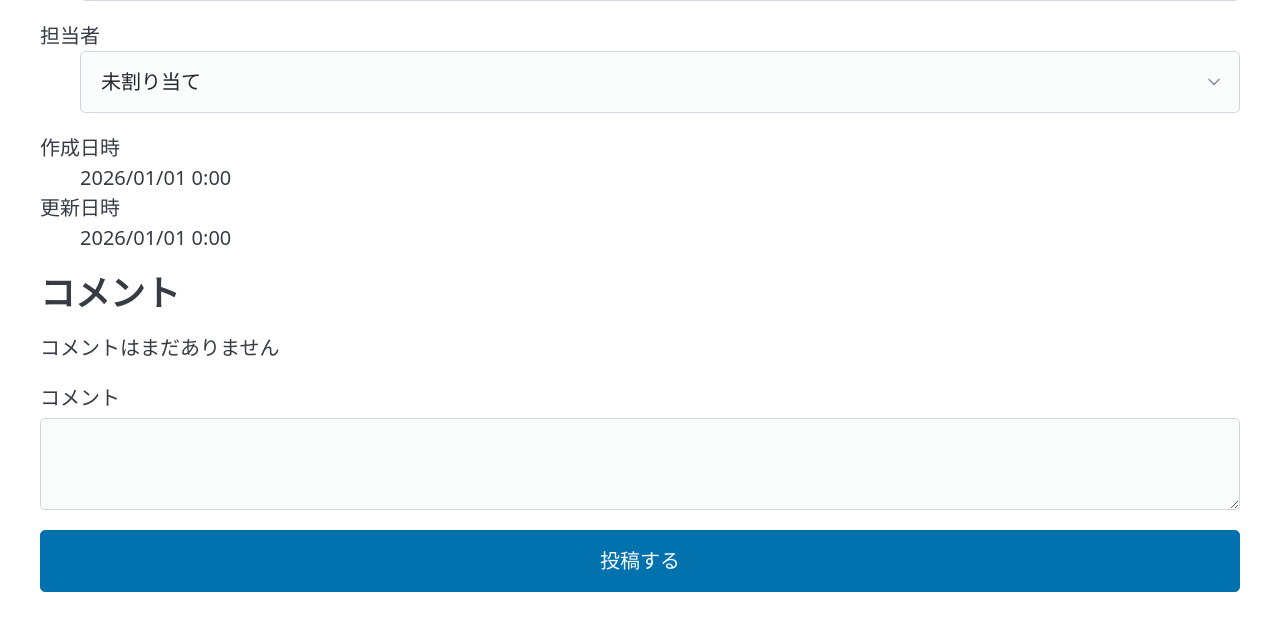
Test case: コメント投稿 › 権限が無ければ(403)、プロジェクトを取り直し、投稿フォームを表示しない
(page scrolled)
Expected: the form named "コメントを投稿" is shown, [40,383,1240,612]
Type "コメント" into the text box labelled "コメント" at (640, 464), box [40,418,1240,510]
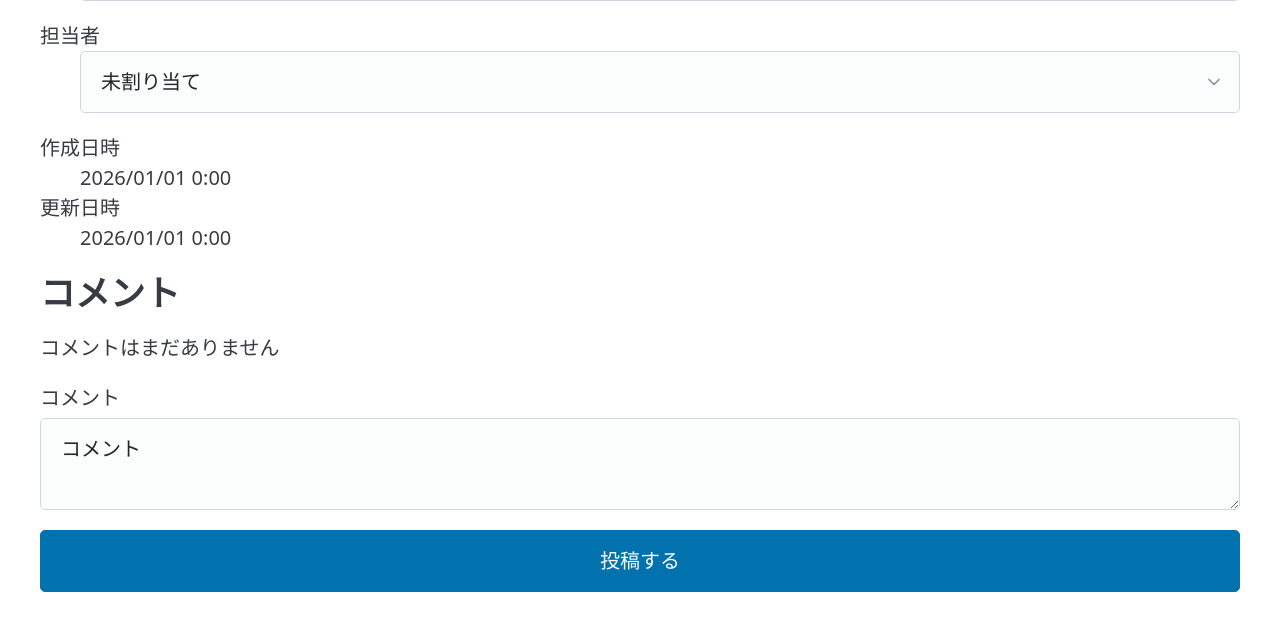
Click the button "投稿する" at (640, 561), box [40,530,1240,592]
(page scrolled)
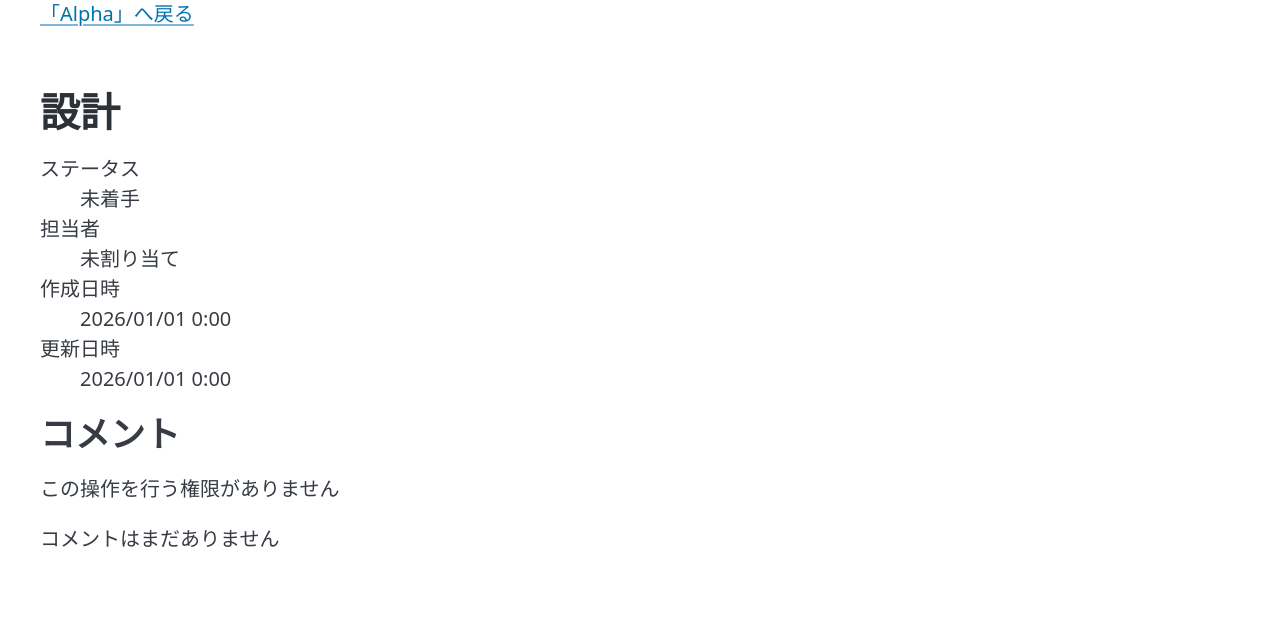
Now the form "コメントを投稿" is gone
Now the message reads "この操作を行う権限がありません", box [40,475,339,502]
